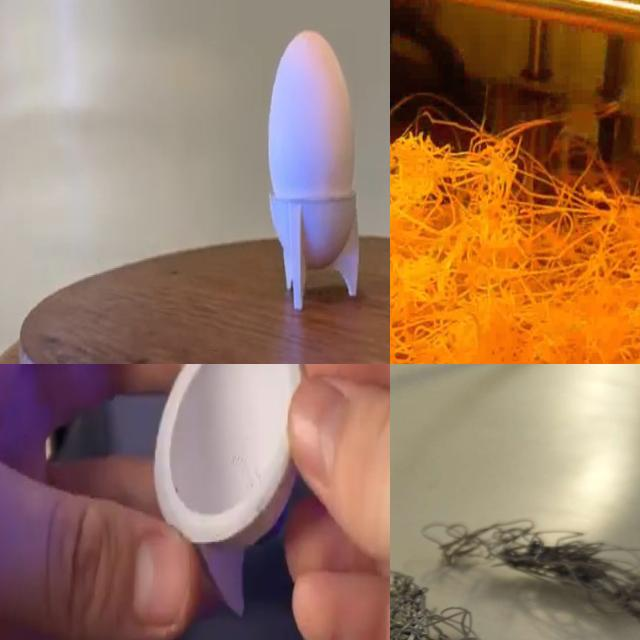spaghetti: (390, 104, 640, 364), (435, 499, 640, 626), (390, 551, 565, 640)
